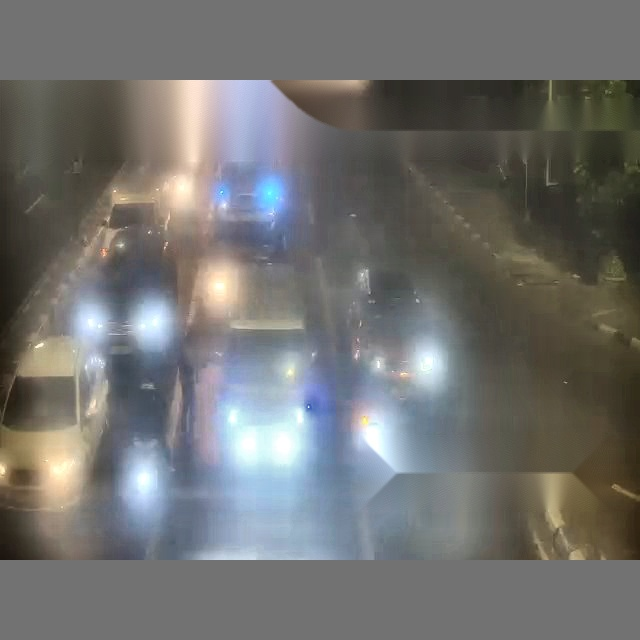Motor: (100, 226, 124, 270)
